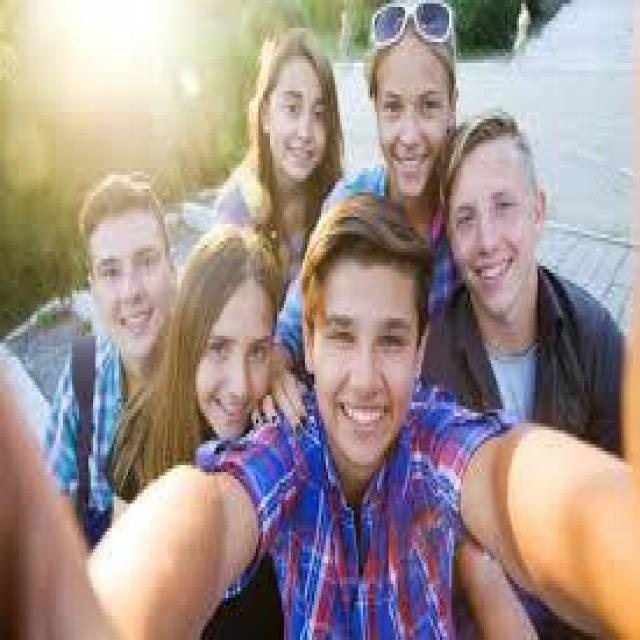person: (263, 182, 458, 636), (430, 109, 616, 496), (151, 206, 291, 518), (58, 133, 182, 472), (225, 7, 368, 224), (352, 3, 470, 231)
